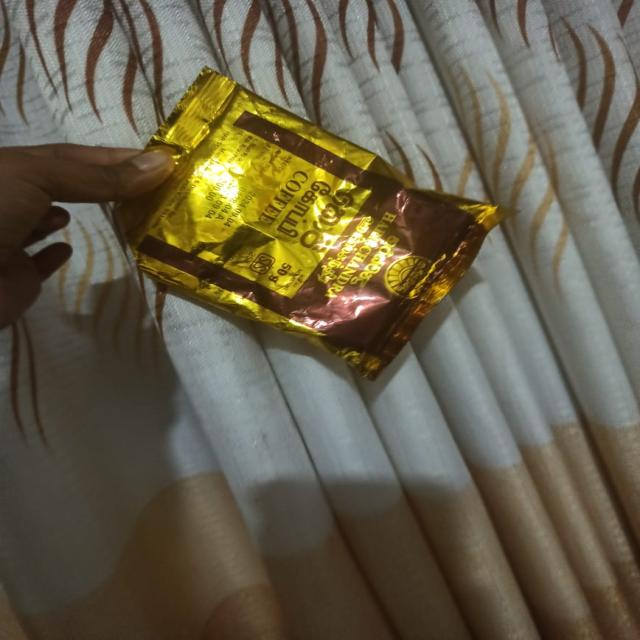Harischandra Coffee: (89, 57, 530, 442)
